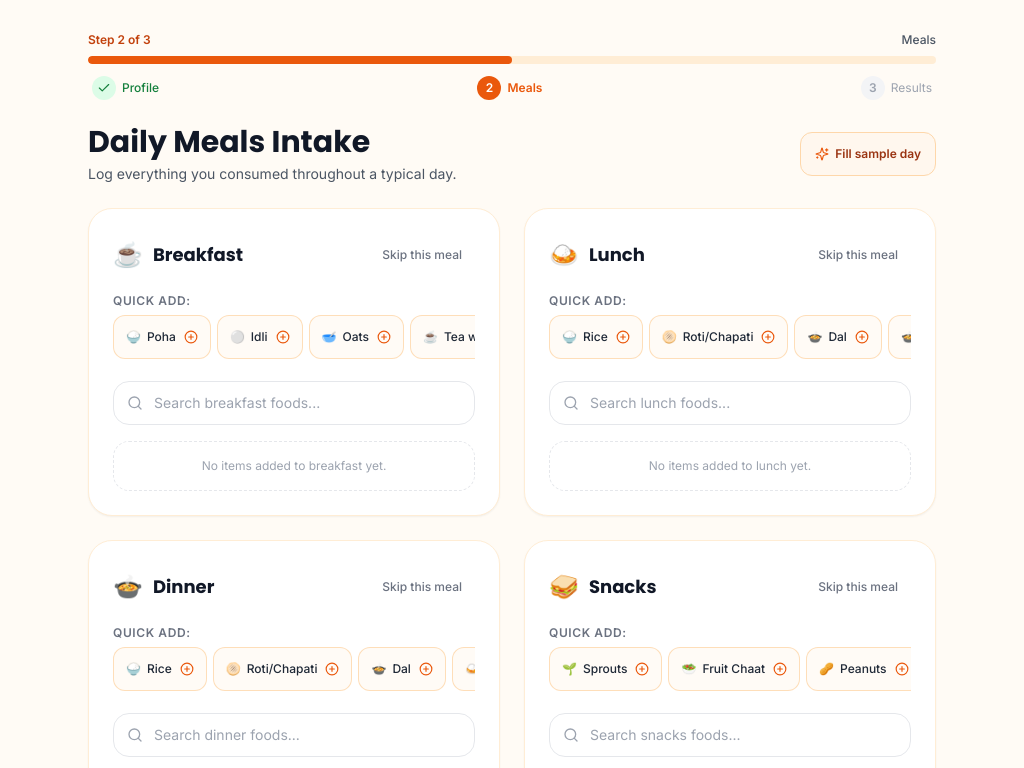
it: Phase 2 UI & Pages Integration Tests › Meals Page › loads sample persona day and updates totals
The image size is (1024, 768).
Click the button "Fill sample day" at (868, 154), box [800, 132, 936, 176]
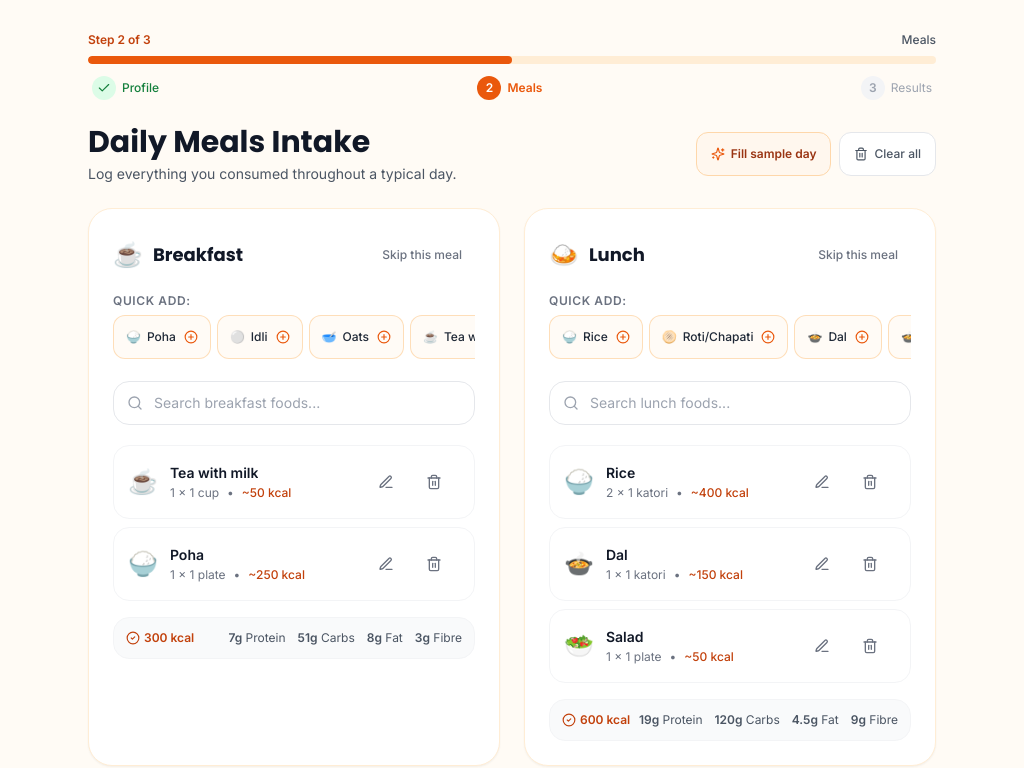
Expected: the button "Clear all" is shown, [840, 132, 936, 176]
